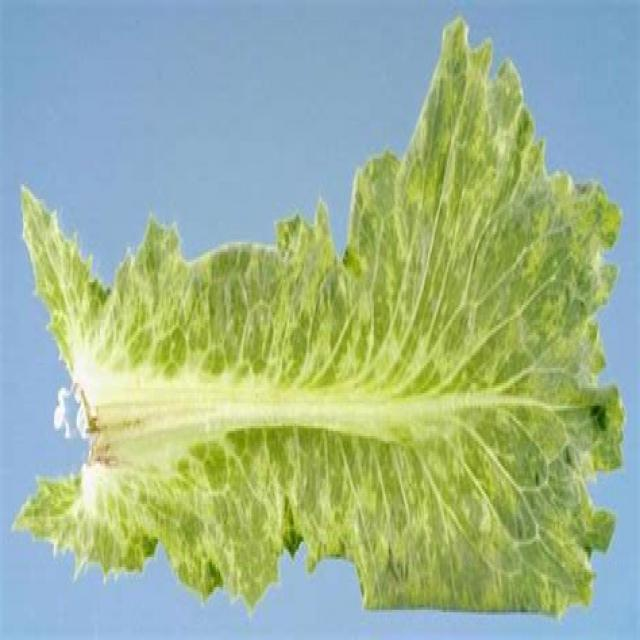Lettuce: (19, 17, 626, 619)
